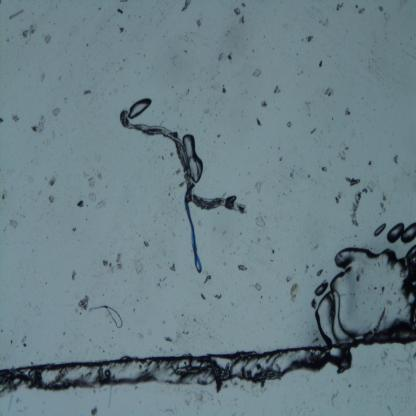Air bubble: (316, 242, 416, 336), (183, 134, 205, 186), (126, 97, 152, 119), (387, 222, 404, 246), (400, 220, 416, 244), (313, 278, 330, 300), (374, 222, 387, 237)
Background material: (349, 179, 374, 227), (92, 304, 124, 330), (101, 251, 124, 273), (21, 20, 38, 40), (30, 113, 46, 134), (8, 4, 25, 21), (132, 256, 146, 276), (378, 192, 389, 215), (77, 294, 90, 312), (344, 175, 362, 188), (290, 283, 301, 304), (254, 213, 268, 229), (215, 52, 233, 63), (86, 175, 98, 191), (354, 3, 368, 16), (323, 86, 336, 98), (254, 179, 263, 196), (303, 97, 311, 116), (180, 0, 192, 12), (237, 262, 249, 274), (317, 14, 330, 25), (312, 268, 326, 278), (37, 69, 47, 83), (43, 32, 53, 46), (260, 96, 270, 110), (253, 114, 263, 128), (201, 102, 211, 116), (342, 106, 354, 117), (252, 67, 263, 79), (9, 218, 20, 229), (47, 176, 57, 188), (96, 170, 106, 182), (157, 273, 165, 288), (70, 268, 78, 282), (202, 274, 212, 285), (87, 193, 98, 203), (336, 1, 346, 12), (51, 107, 61, 118), (164, 334, 174, 345), (47, 193, 57, 204), (76, 199, 86, 210), (96, 200, 106, 211), (10, 112, 20, 123), (338, 150, 347, 162), (254, 281, 263, 293), (335, 190, 343, 203), (307, 125, 317, 135), (233, 5, 242, 16), (21, 334, 28, 348), (169, 262, 177, 274), (285, 274, 294, 284), (273, 84, 281, 95), (178, 327, 190, 334), (83, 87, 92, 96), (142, 240, 151, 249), (116, 7, 125, 16), (307, 34, 315, 44), (213, 292, 223, 300), (221, 83, 227, 96), (2, 189, 8, 201), (394, 152, 399, 166), (196, 18, 202, 29), (286, 119, 292, 130), (238, 16, 246, 24), (237, 88, 245, 96), (199, 293, 206, 302), (312, 242, 319, 251), (0, 114, 5, 126), (170, 150, 177, 158), (214, 131, 222, 138), (158, 317, 166, 324), (378, 4, 384, 13), (119, 25, 125, 34), (71, 225, 78, 232), (320, 166, 328, 172), (366, 160, 372, 168), (278, 154, 284, 162), (183, 47, 188, 55), (289, 170, 293, 180), (241, 3, 247, 9), (318, 61, 323, 68), (306, 264, 310, 272), (180, 312, 185, 318), (300, 36, 304, 42), (98, 5, 102, 11), (186, 88, 189, 96), (162, 155, 166, 161), (251, 48, 255, 53), (132, 308, 136, 313), (300, 69, 304, 74), (30, 361, 34, 366), (272, 249, 275, 255), (270, 258, 274, 262), (293, 267, 297, 271), (44, 282, 48, 285), (278, 146, 281, 150), (278, 179, 281, 183), (136, 299, 139, 303), (308, 172, 310, 178), (289, 189, 292, 193), (0, 329, 4, 332), (292, 168, 294, 173), (259, 296, 262, 299), (64, 332, 66, 336), (123, 58, 125, 62), (87, 43, 89, 47), (296, 52, 298, 55), (278, 194, 280, 197), (299, 168, 302, 170), (283, 193, 285, 195), (271, 146, 272, 150), (294, 165, 295, 167)
Cotton: (120, 109, 248, 212), (181, 201, 203, 274)
Edge of slide: (0, 335, 416, 416)
